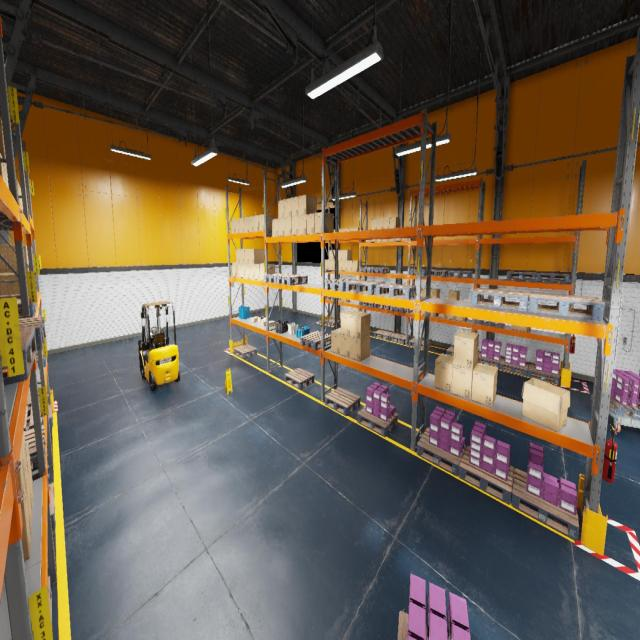box: (521, 378, 570, 431), (471, 362, 498, 407), (453, 330, 479, 370), (452, 363, 477, 399), (0, 244, 29, 273), (20, 478, 30, 561), (434, 353, 453, 393), (0, 273, 28, 295), (350, 312, 370, 339), (350, 335, 370, 361), (25, 442, 33, 506), (25, 459, 32, 530), (340, 310, 359, 336), (315, 212, 333, 233), (298, 194, 316, 215), (18, 444, 24, 495), (0, 118, 6, 165), (259, 264, 275, 280), (259, 214, 274, 230), (249, 248, 264, 264), (331, 328, 340, 354), (340, 334, 350, 357), (22, 428, 26, 476), (306, 213, 315, 233), (0, 152, 5, 182), (16, 179, 21, 209), (291, 216, 299, 234), (511, 325, 531, 332), (299, 215, 306, 234), (284, 198, 291, 217), (254, 264, 262, 280), (292, 196, 298, 216), (448, 290, 460, 300), (278, 199, 284, 218), (278, 217, 284, 236), (352, 260, 362, 271), (389, 217, 400, 227), (285, 217, 291, 235), (272, 218, 278, 236), (4, 163, 8, 188), (430, 288, 440, 298), (248, 216, 254, 232), (343, 250, 352, 260), (244, 264, 250, 278), (421, 288, 431, 296), (19, 184, 22, 210), (244, 217, 249, 232), (240, 263, 245, 278), (239, 218, 244, 232), (244, 249, 249, 263), (20, 187, 23, 210), (6, 166, 9, 188), (348, 260, 354, 271), (377, 218, 383, 229), (254, 215, 258, 231), (236, 218, 240, 233), (250, 264, 254, 279), (383, 218, 389, 228), (371, 219, 377, 229), (236, 263, 240, 277), (232, 262, 236, 276), (240, 249, 244, 263), (231, 220, 235, 233), (236, 249, 240, 262), (27, 245, 29, 269), (447, 315, 456, 320), (456, 317, 467, 321), (21, 189, 23, 210), (252, 316, 259, 322), (343, 260, 347, 270), (329, 260, 333, 270), (325, 260, 329, 270), (338, 250, 342, 260), (329, 250, 333, 260), (261, 316, 266, 323), (438, 314, 446, 318), (430, 312, 438, 316), (261, 320, 266, 326), (258, 317, 264, 322), (339, 260, 342, 270), (353, 227, 363, 230), (341, 299, 350, 302), (269, 321, 274, 326), (402, 238, 413, 240), (333, 260, 335, 270), (333, 250, 335, 260), (338, 228, 343, 232), (396, 238, 402, 241), (421, 310, 425, 314), (343, 228, 348, 231), (348, 228, 353, 230), (414, 309, 414, 313)
forklift: (140, 301, 180, 390)
pallets: (511, 468, 579, 541), (459, 446, 514, 504), (416, 428, 466, 476), (528, 292, 605, 321), (3, 328, 37, 385), (470, 288, 530, 311), (357, 405, 398, 437), (325, 387, 360, 416), (24, 426, 46, 471), (19, 316, 46, 351), (398, 610, 427, 640), (609, 396, 640, 419), (376, 284, 416, 300), (285, 368, 314, 390), (528, 364, 559, 384), (0, 294, 37, 310), (24, 402, 44, 431), (300, 331, 330, 350), (346, 280, 385, 294), (499, 358, 528, 376), (324, 278, 360, 291), (477, 352, 501, 369), (17, 298, 36, 318), (276, 274, 308, 285), (27, 385, 38, 416), (234, 344, 257, 358), (536, 273, 570, 282), (49, 482, 55, 530), (264, 274, 294, 283), (409, 338, 431, 350), (389, 332, 409, 344), (507, 272, 536, 280), (478, 320, 505, 328), (48, 576, 52, 629), (374, 330, 394, 340), (36, 350, 46, 368), (448, 271, 472, 278), (426, 270, 450, 276), (390, 306, 410, 312), (325, 318, 340, 326), (410, 269, 427, 276), (48, 404, 53, 427), (371, 267, 390, 273), (360, 266, 376, 272), (375, 304, 390, 310), (360, 302, 374, 308), (446, 346, 454, 356), (325, 296, 341, 300)
